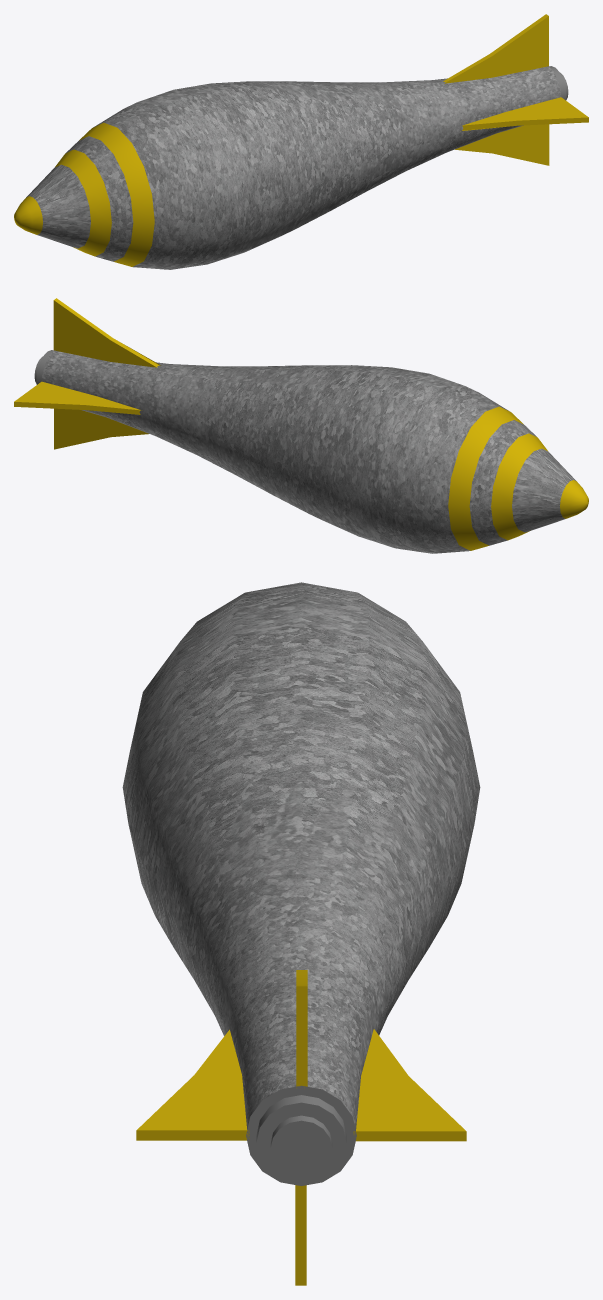
Rendered from Bomb.fbx.
3 renders of one model, top to bottom at view 1: azimuth 30°, elevation 25°; view 2: azimuth 150°, elevation 25°; view 3: azimuth 270°, elevation 25°, orthographic. The views are drawn at different scales.
Visible parts, largest first — view 1: BezierCurve; view 2: BezierCurve; view 3: BezierCurve.
Part boxes in pixels (box(x1,y1,x2,y2)): BezierCurve: box(14, 14, 588, 269); BezierCurve: box(14, 298, 588, 553); BezierCurve: box(122, 582, 480, 1285).
Bounding box in the file's own units: 227 × 64.44 × 64.44.
